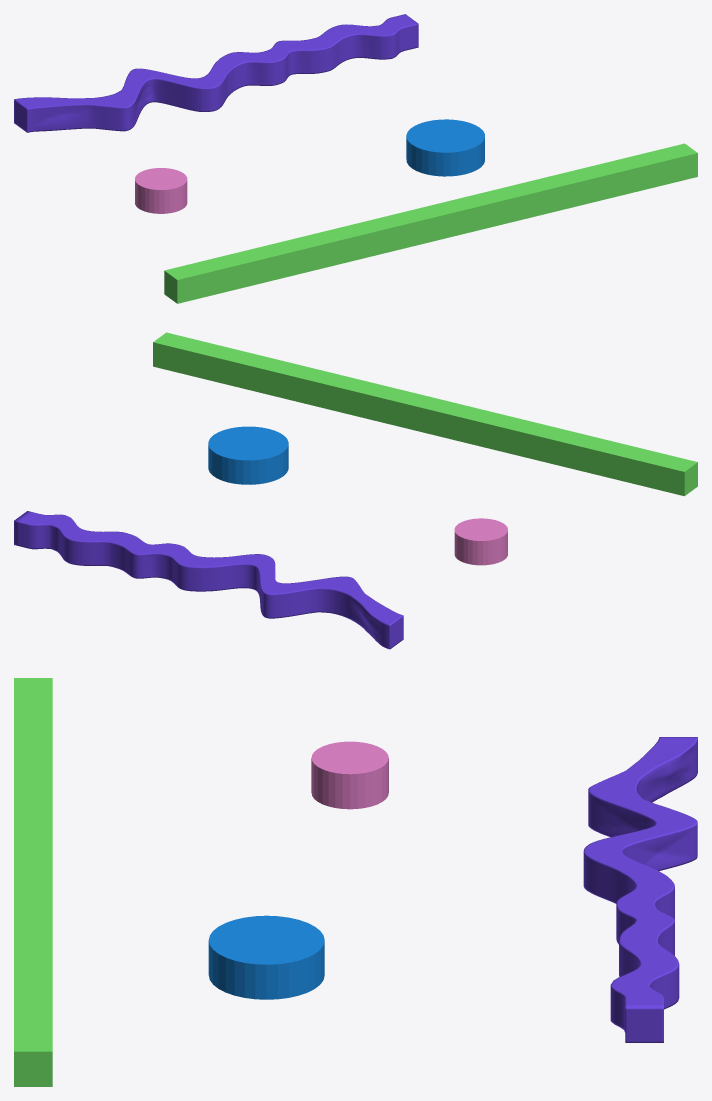
Rendered from blender_walls2.dae.
3 renders of one model, top to bottom at view 1: azimuth 30°, elevation 25°; view 2: azimuth 150°, elevation 25°; view 3: azimuth 270°, elevation 25°, orthographic. The views are drawn at different scales.
Parts seen in each view (by area): view 1: Cube.001, Cube, Cylinder, Cylinder.001; view 2: Cube.001, Cube, Cylinder, Cylinder.001; view 3: Cube, Cube.001, Cylinder, Cylinder.001.
Part boxes in pixels (x1,y1,x2,y2): Cube.001: (164,143,697,303); Cube: (14,14,418,132); Cylinder: (406,119,484,176); Cylinder.001: (135,168,187,213); Cube.001: (153,332,697,496); Cube: (14,511,403,649); Cylinder: (208,426,288,484); Cylinder.001: (454,518,507,565); Cube: (583,737,697,1042); Cube.001: (14,678,52,1086); Cylinder: (208,915,324,999); Cylinder.001: (311,741,388,809).
Size of the model in its own units: 45.73 by 35.37 by 2.54.
